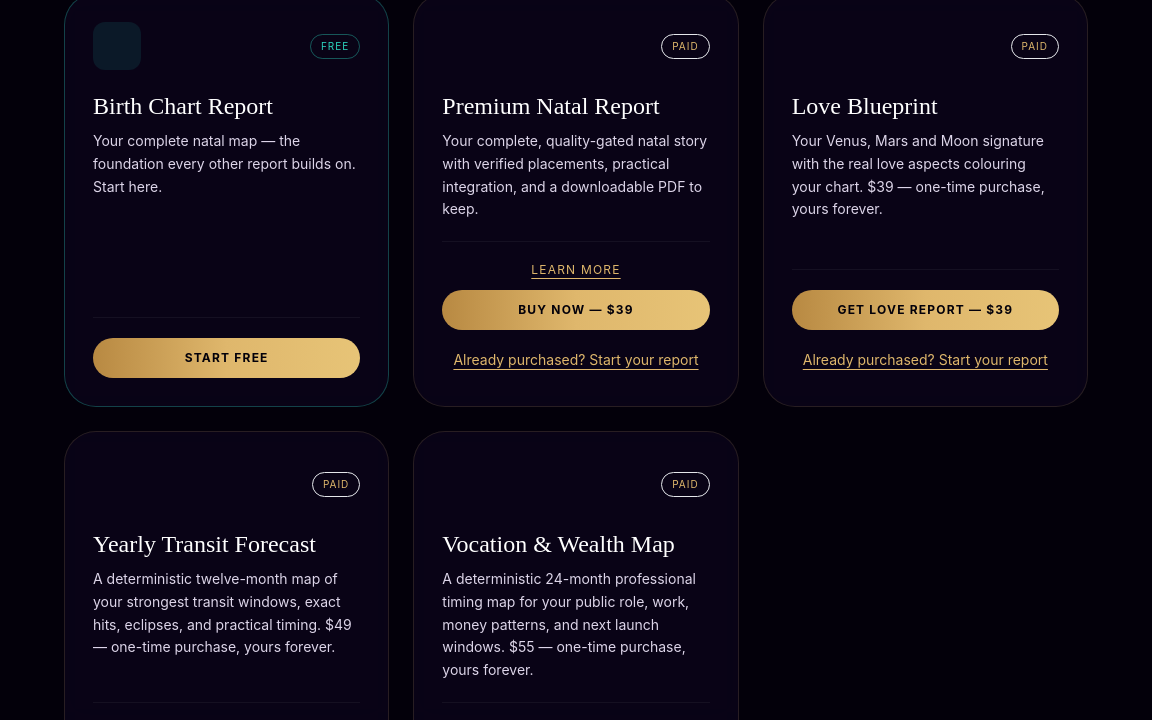
Test: redeems a verified Whop purchase through generation without opening another checkout
(page scrolled)
Click the button "Already purchased? Start your report" below "Premium Natal Report" at x=576, y=360, box [442,342,710,378]
(page scrolled)
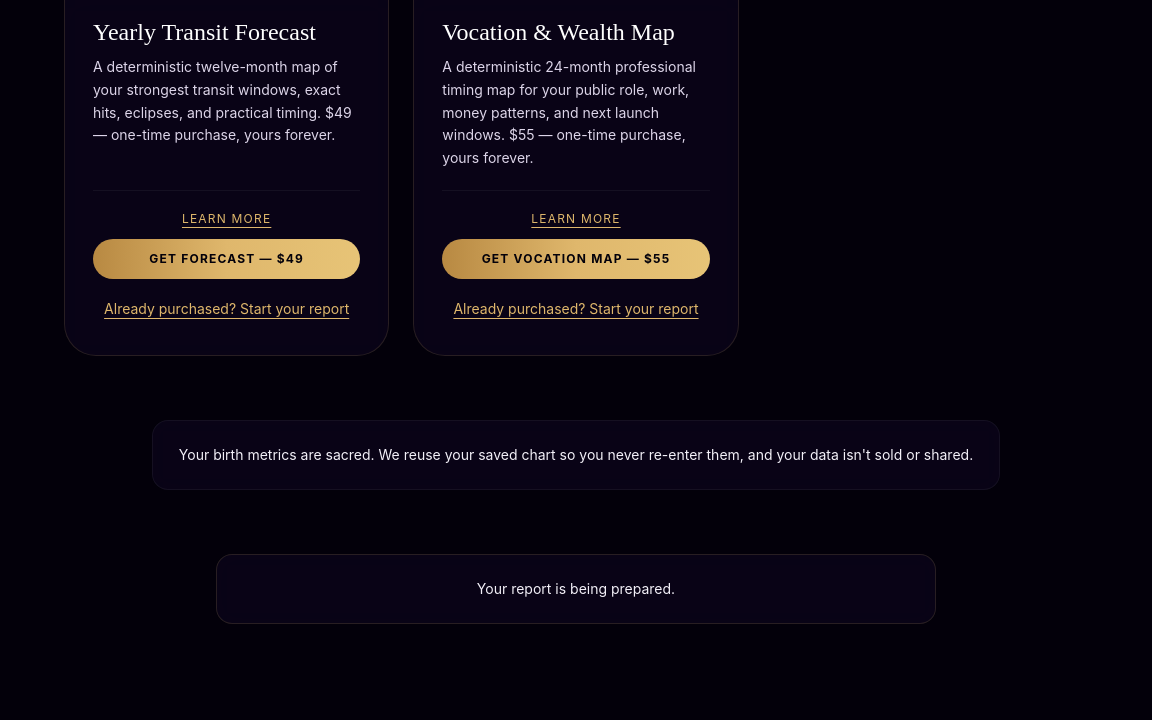
Now the text "Your report is being prepared." is shown, box [477,580,675,597]
